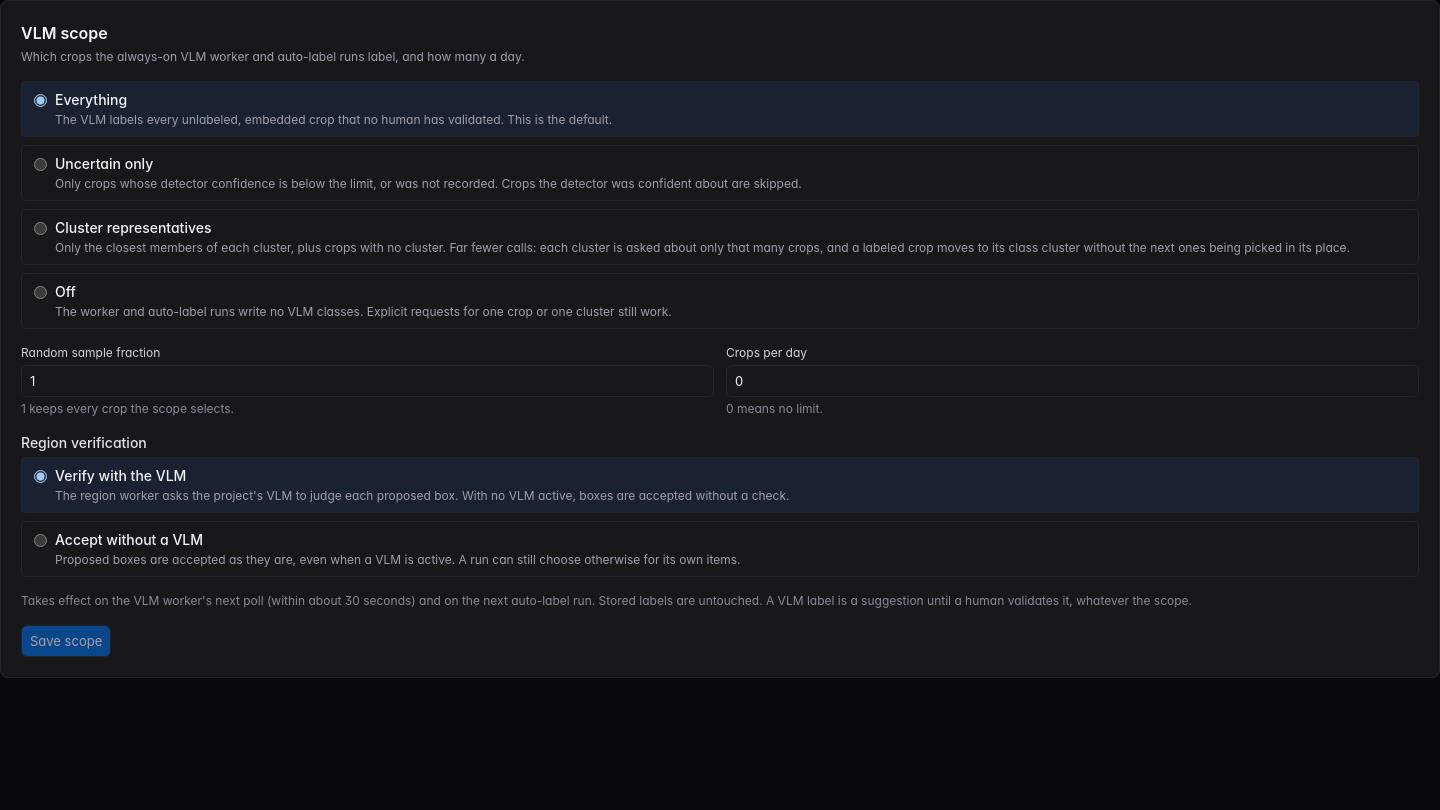
Scenario: VlmScopePanel › saves the edited policy with the revision it read, then confirms
Expected: the button with test id "vlm-scope-save" is disabled, [21,625,111,657]
Click the radio button with test id "vlm-scope-uncertain": click(40, 164) [34,158,47,171]
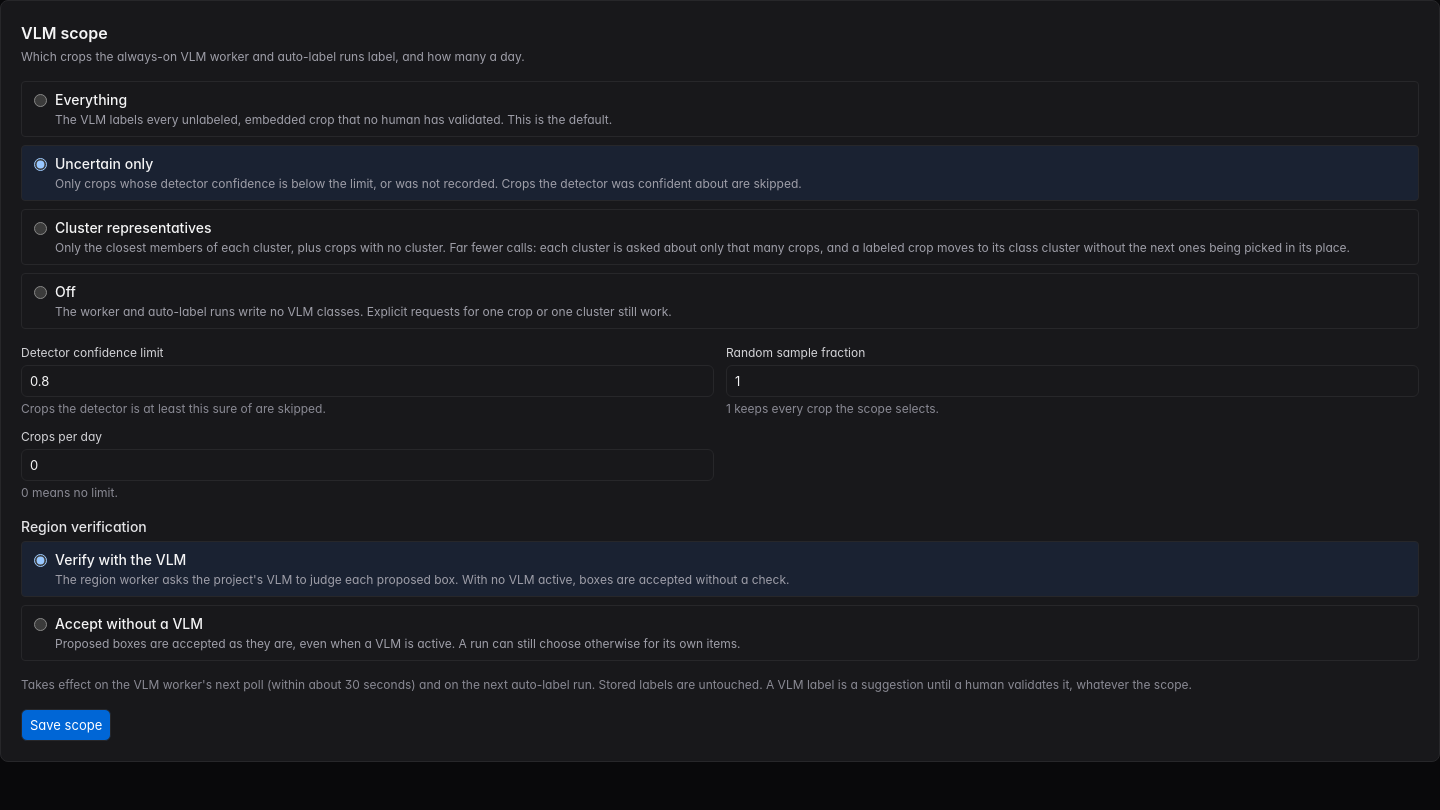
Replace the text in the 1st number field with "0.6": (368, 381) [21,365,714,397]
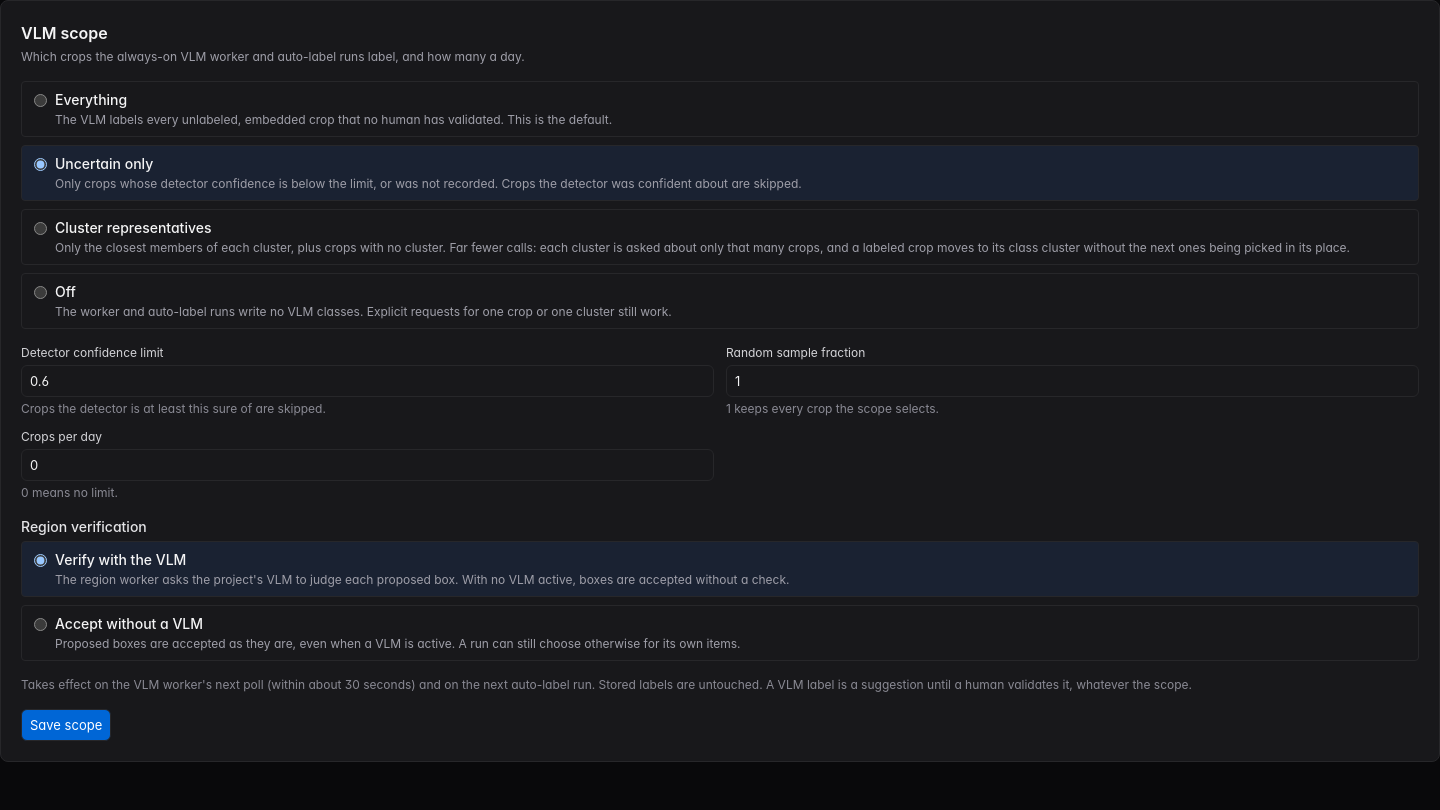
Replace the text in the number field labelled "Crops per day 0 means no limit." with "500": (368, 465) [21,449,714,481]
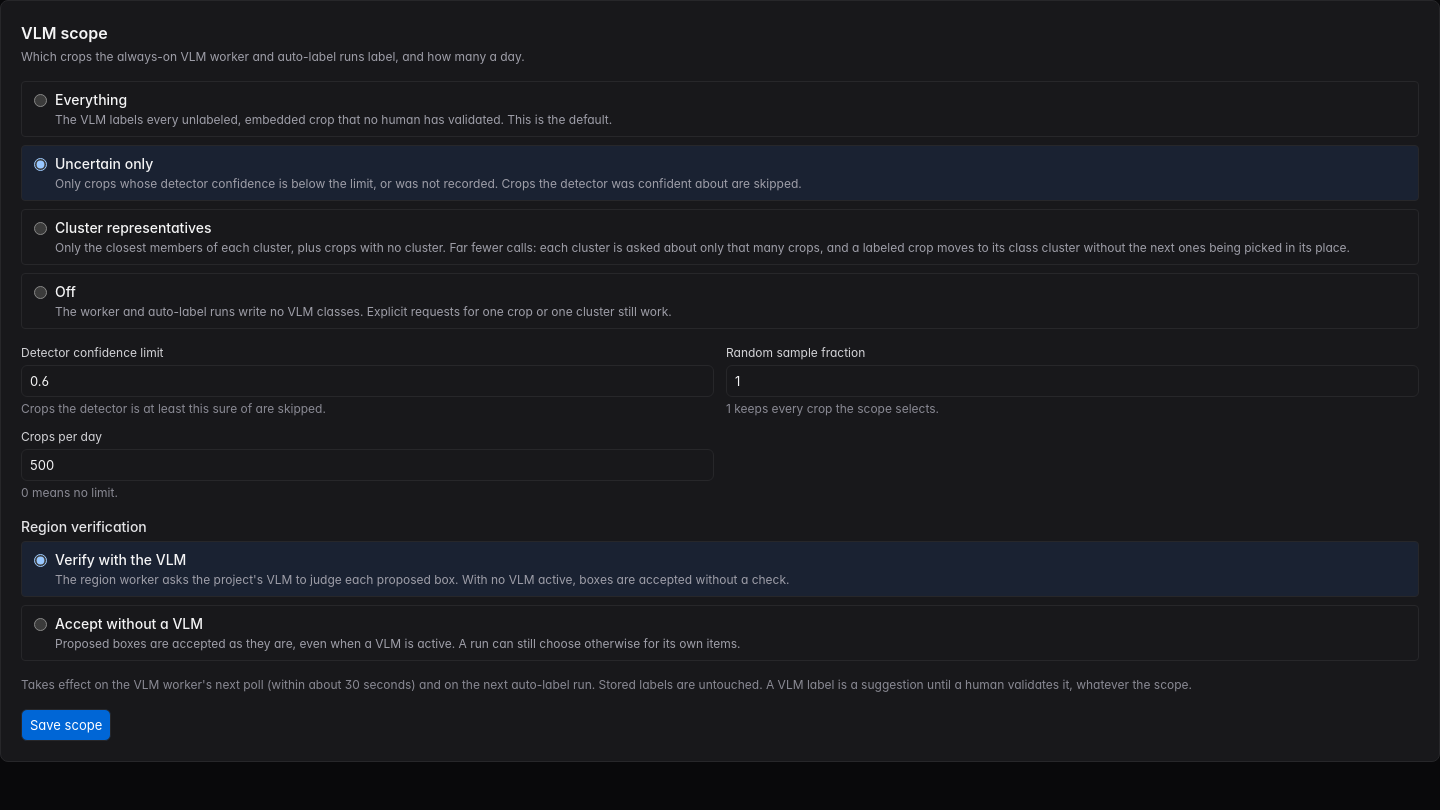
Click the button with test id "vlm-scope-save": click(66, 725) [21,709,111,741]
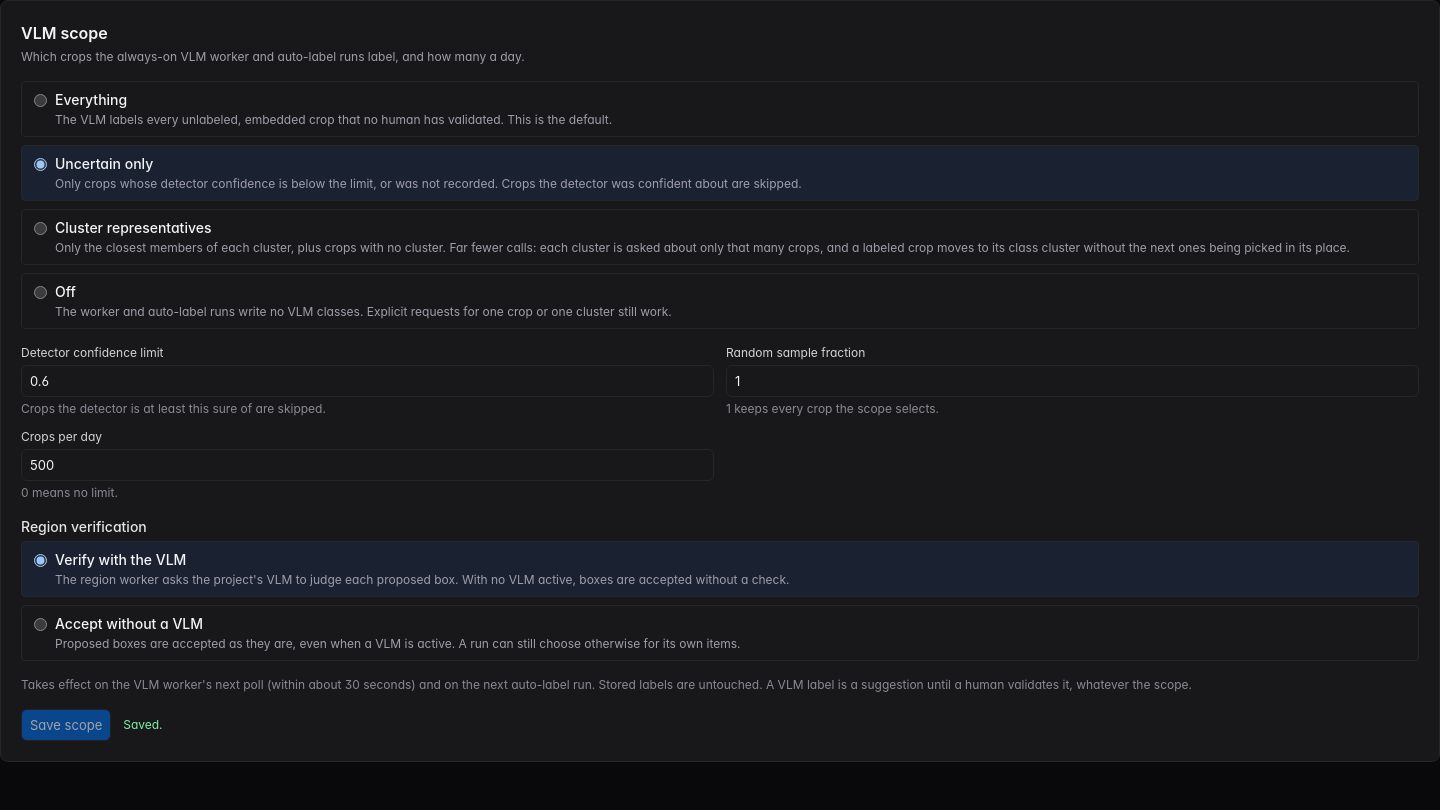
Expected: the text "Saved." is shown, [123,717,163,733]
